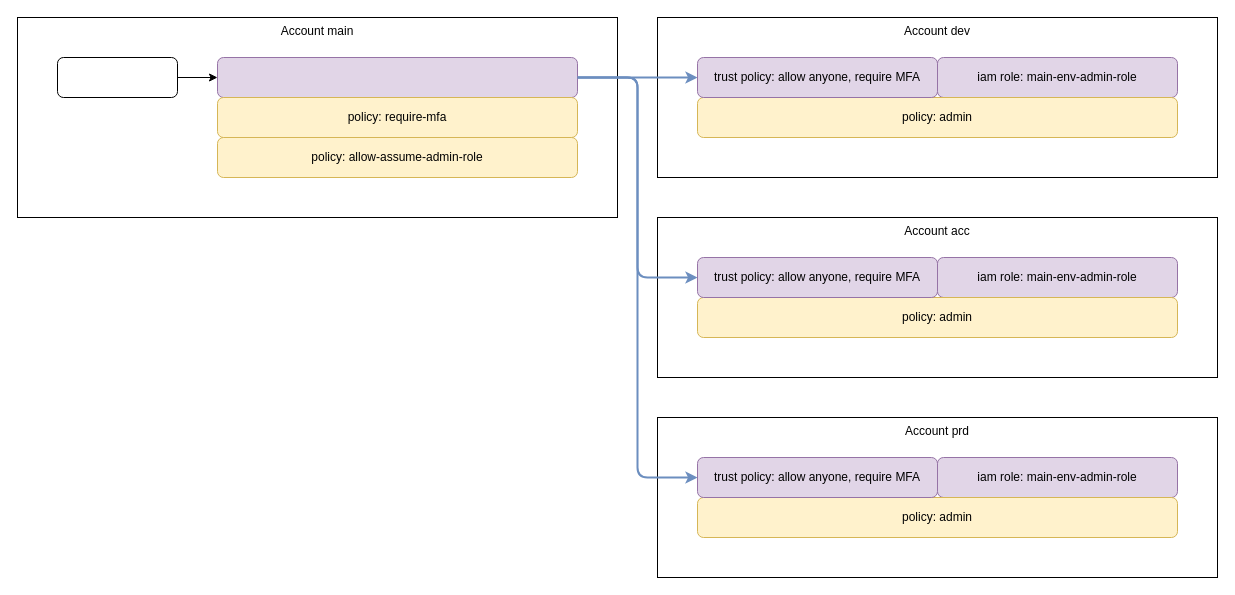
Image size: 1235x595. Some labels were removed from this diagram. The shapes that lost their labels are listed below. From the top down, each one's centre as x and y in pixels, then its label:
point (117, 77): iam user: timmy
point (397, 77): iam group: engineering
